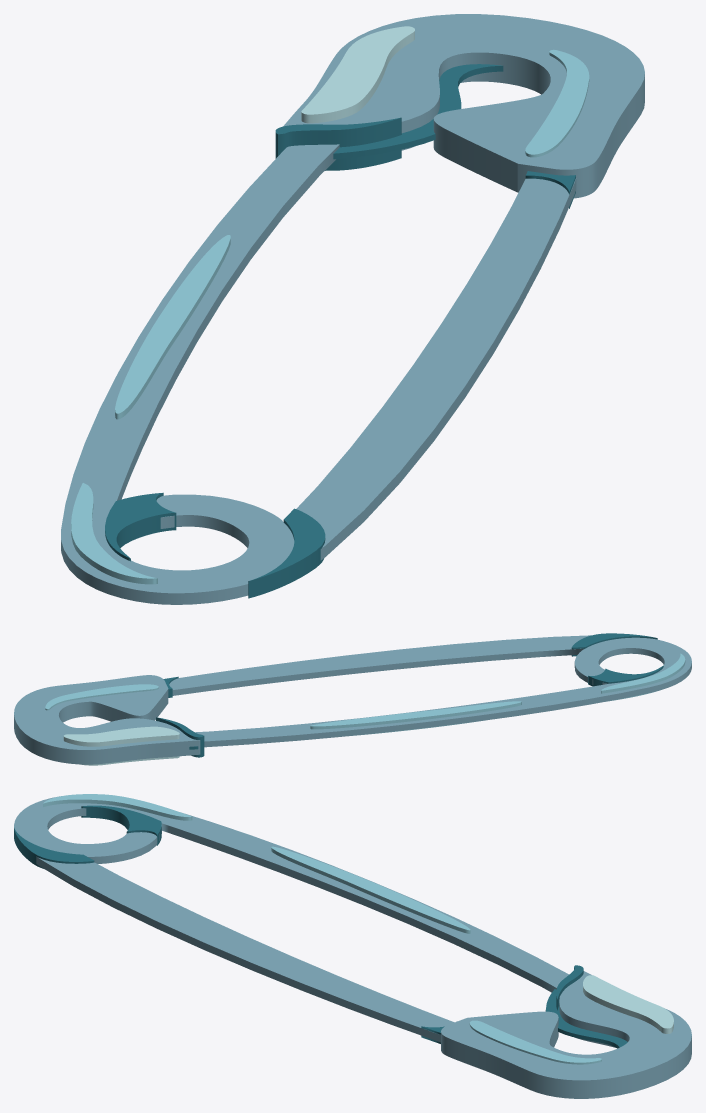
Rendered from emoji_u1f9f7.glb.
3 renders of one model, top to bottom at view 1: azimuth 30°, elevation 25°; view 2: azimuth 150°, elevation 25°; view 3: azimuth 270°, elevation 25°, orthographic. The views are drawn at different scales.
Parts seen in each view (by area): view 1: emoji_u1f9f7; view 2: emoji_u1f9f7; view 3: emoji_u1f9f7.
Boxes of the visible parts, x1,y1,x2,y2 form: emoji_u1f9f7: (61,14,644,604); emoji_u1f9f7: (14,633,691,765); emoji_u1f9f7: (14,794,691,1098).
Size of the model in its own units: 0.0337 by 0.0016 by 0.0331.
